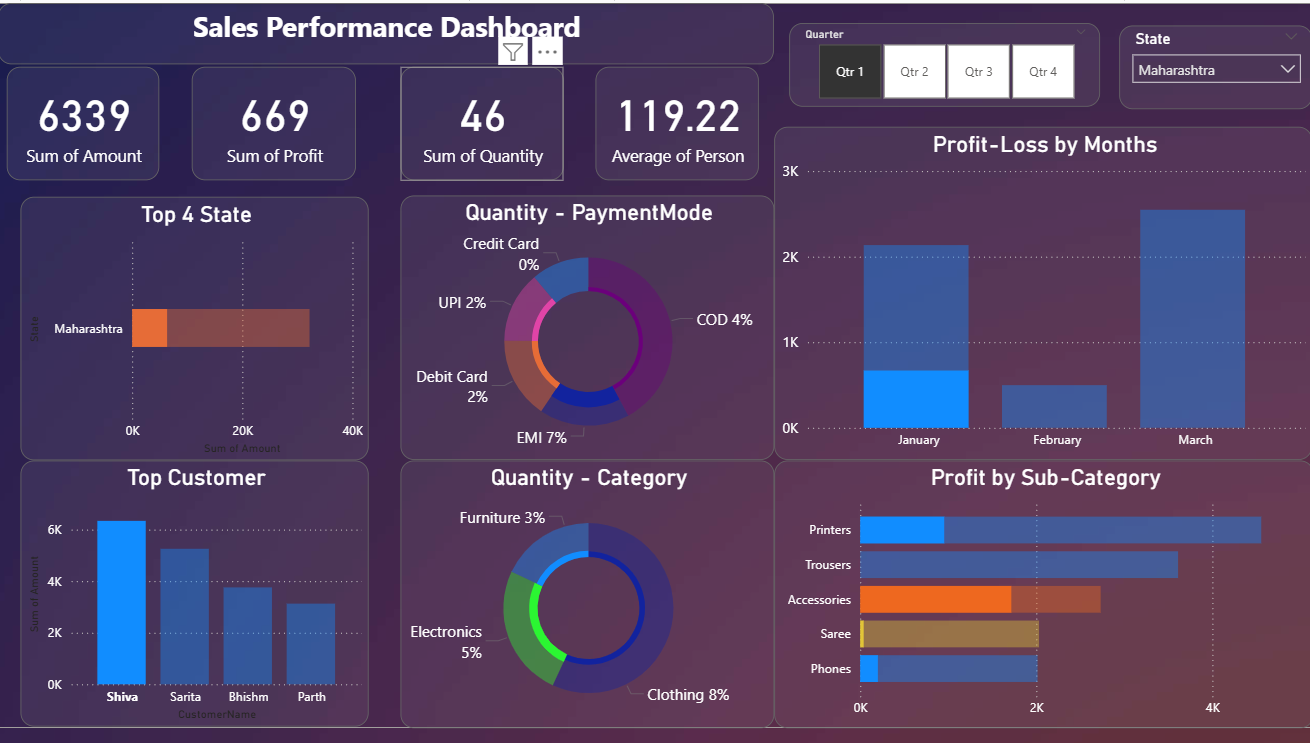

Layout of this report page (visuals, bound fields, positions):
{"tool":"powerbi","page":{"name":"Page 1","canvas":[1280,720],"ordinal":0},"visuals":[{"type":"textbox","box":[10.1,0,748.8,59.2],"z":0,"group":"g1"},{"type":"clusteredColumnChart","title":"Profit-Loss by Months","fields":{"Category":["Orders.Order Date.Variation.Date Hierarchy.Month"],"Y":["Sum(Details.Profit)"]},"box":[758.9,119.7,519.4,321.7],"z":1000,"group":"g1"},{"type":"barChart","title":"Profit by Sub-Category","fields":{"Category":["Details.Sub-Category"],"Y":["Sum(Details.Amount)"]},"box":[758.9,441.5,520.8,258.3],"z":2000,"group":"g1"},{"type":"group","id":"g1","title":"Group 1","box":[10.1,0,1269.6,699.7],"z":2011},{"type":"donutChart","title":"Quantity - Category","fields":{"Category":["Details.Category"],"Y":["Sum(Details.Quantity)"]},"box":[398.2,441.5,360.7,258.3],"z":3000,"group":"g1"},{"type":"donutChart","title":" Quantity - PaymentMode","fields":{"Category":["Details.PaymentMode"],"Y":["Sum(Details.Quantity)"]},"box":[398.2,186.1,360.7,255.4],"z":4000,"group":"g1"},{"type":"card","fields":{"Values":["Sum(Details.Amount)"]},"box":[18.8,62,147.2,109.6],"z":5000,"group":"g1"},{"type":"card","fields":{"Values":["Sum(Details.Profit)"]},"box":[197.7,62,158.7,109.6],"z":6000,"group":"g1"},{"type":"card","fields":{"Values":["Sum(Details.Quantity)"]},"box":[398.2,62,157.3,109.6],"z":7000,"group":"g1"},{"type":"card","fields":{"Values":["Avg(Details.AOV)"]},"box":[587.2,62,157.3,109.6],"z":8000,"group":"g1"},{"type":"clusteredBarChart","title":"Top 4 State","fields":{"Category":["Orders.State"],"Y":["Sum(Details.Amount)"]},"box":[32,186.9,336.4,254.5],"z":9000,"group":"g1"},{"type":"columnChart","title":"Top Customer","fields":{"Category":["Orders.CustomerName"],"Y":["Sum(Details.Amount)"]},"box":[32,442,336,257],"z":10000,"group":"g1"},{"type":"slicer","fields":{"Values":["Orders.Order Date.Variation.Date Hierarchy.Quarter"]},"box":[773.3,18.8,300.1,80.8],"z":11000,"group":"g1"},{"type":"slicer","fields":{"Values":["Orders.State"]},"box":[1092.2,21.6,186.1,80.8],"z":12000,"group":"g1"}]}

Visuals, with their boxes in screenshot pixels (x1, y1, x2, y2), scaled from the page's 1280x720 canvas onto the 1310x743 screenshot:
textbox: select_region(10, 0, 777, 61)
"Profit-Loss by Months" clusteredColumnChart: select_region(777, 124, 1308, 456)
"Profit by Sub-Category" barChart: select_region(777, 456, 1309, 722)
"Group 1" group: select_region(10, 0, 1309, 722)
"Quantity - Category" donutChart: select_region(408, 456, 777, 722)
" Quantity - PaymentMode" donutChart: select_region(408, 192, 777, 456)
card - Sum(Details.Amount): select_region(19, 64, 170, 177)
card - Sum(Details.Profit): select_region(202, 64, 365, 177)
card - Sum(Details.Quantity): select_region(408, 64, 569, 177)
card - Avg(Details.AOV): select_region(601, 64, 762, 177)
"Top 4 State" clusteredBarChart: select_region(33, 193, 377, 456)
"Top Customer" columnChart: select_region(33, 456, 377, 721)
slicer - Orders.Order Date.Variation.Date Hierarchy.Quarter: select_region(791, 19, 1099, 103)
slicer - Orders.State: select_region(1118, 22, 1308, 106)
